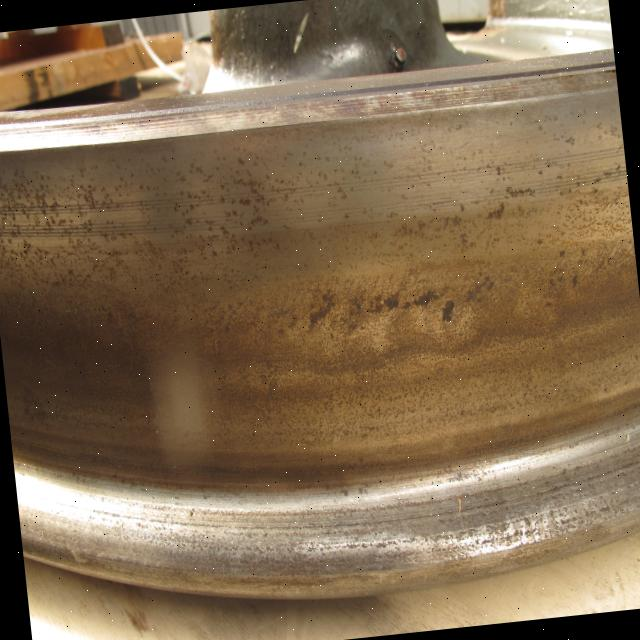Contact_Fatigue_Cracks: (306, 292, 339, 327), (387, 292, 438, 312), (353, 290, 387, 317), (502, 184, 538, 200), (486, 201, 507, 226), (443, 299, 457, 324)
